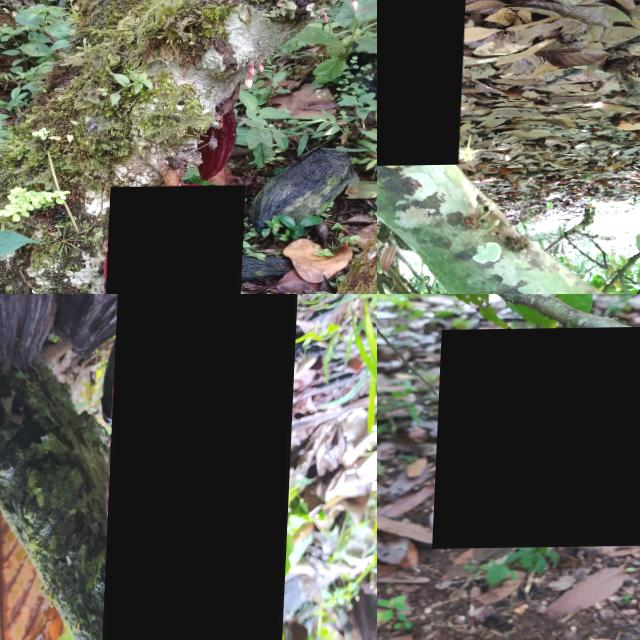Fitoftora: (377, 0, 470, 167), (105, 186, 247, 294)
Monilia: (106, 294, 302, 640), (435, 327, 640, 549), (0, 294, 61, 368)
